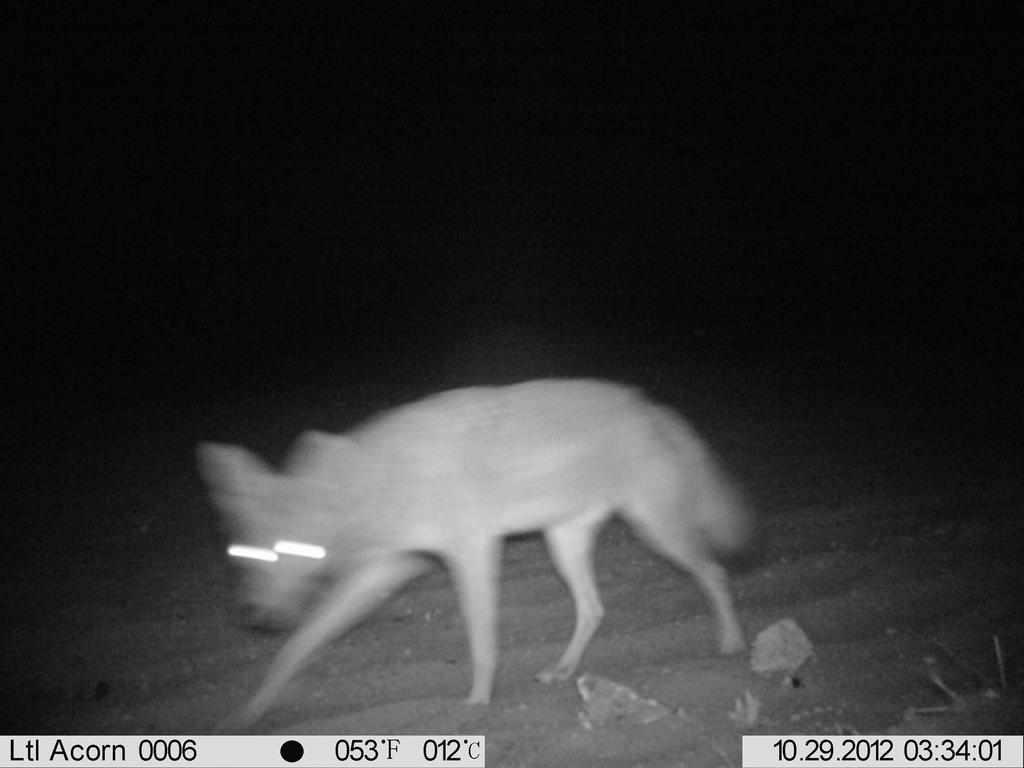coyote: (185, 367, 823, 727)
